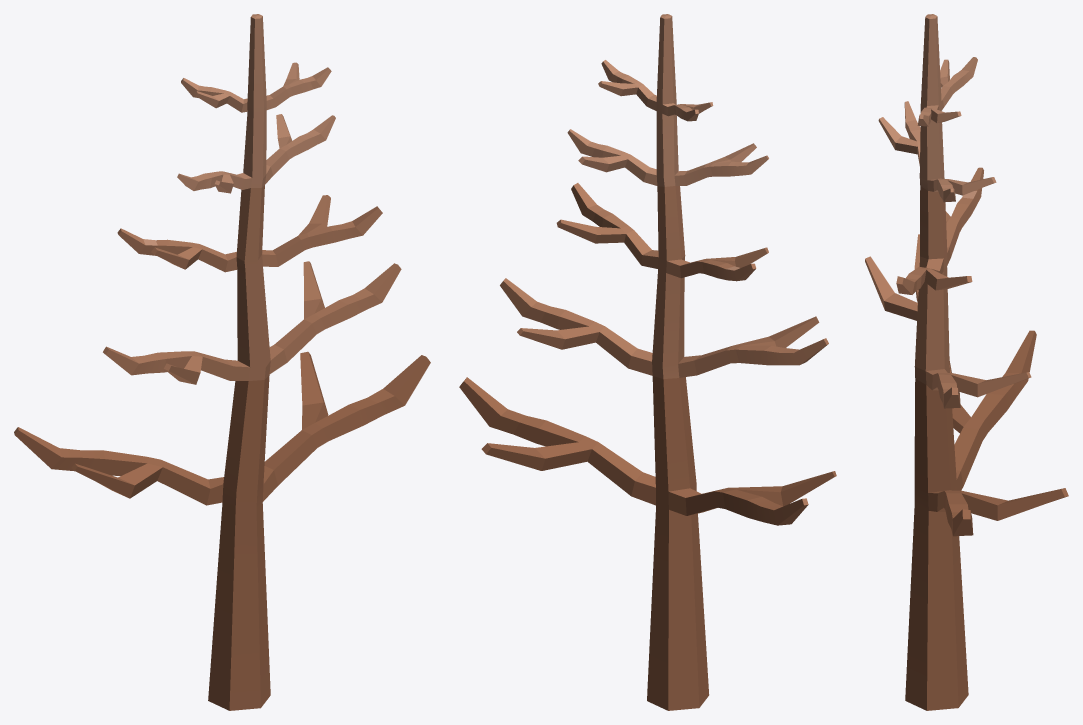
File: naked_tree_2.fbx
3 views of the same model, side by side, from view 1: azimuth 30°, elevation 25°; view 2: azimuth 150°, elevation 25°; view 3: azimuth 270°, elevation 25° (orthographic).
Visible parts, largest first — view 1: naked_tree_2; view 2: naked_tree_2; view 3: naked_tree_2.
Part boxes in pixels (<box>): naked_tree_2: <box>14,14,430,710</box>; naked_tree_2: <box>459,14,836,710</box>; naked_tree_2: <box>865,14,1068,710</box>.
Size of the model in its own units: 473 by 805 by 216.
